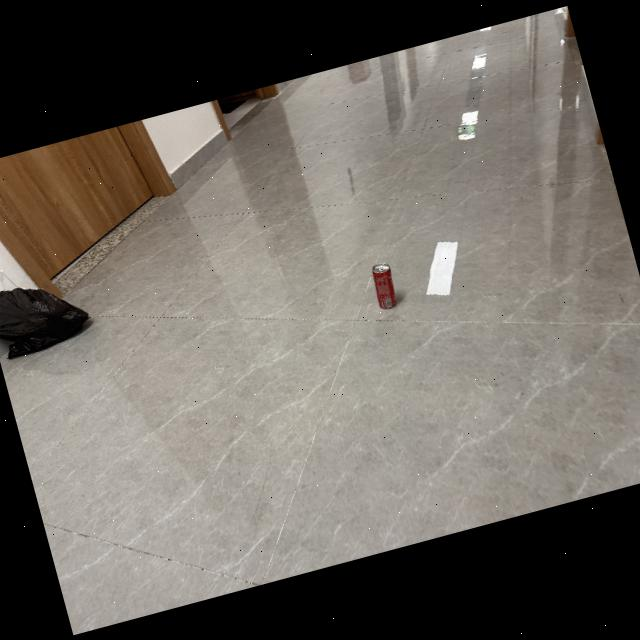Cola: (362, 256, 404, 315)
